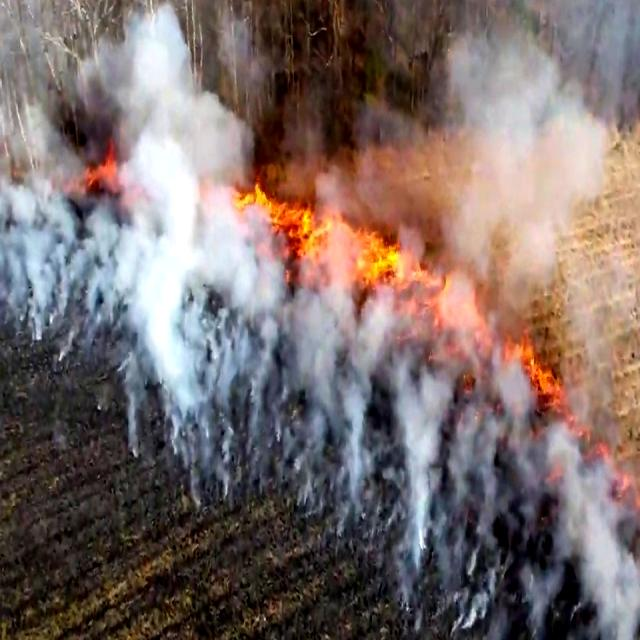fire: (283, 184, 427, 320)
smoke: (120, 12, 277, 515), (433, 12, 617, 344), (377, 308, 483, 640), (563, 450, 640, 640)
